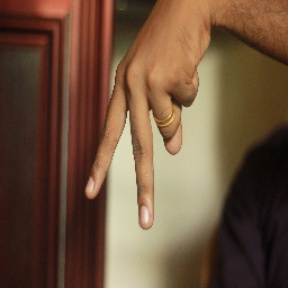Y: (84, 55, 198, 230)
